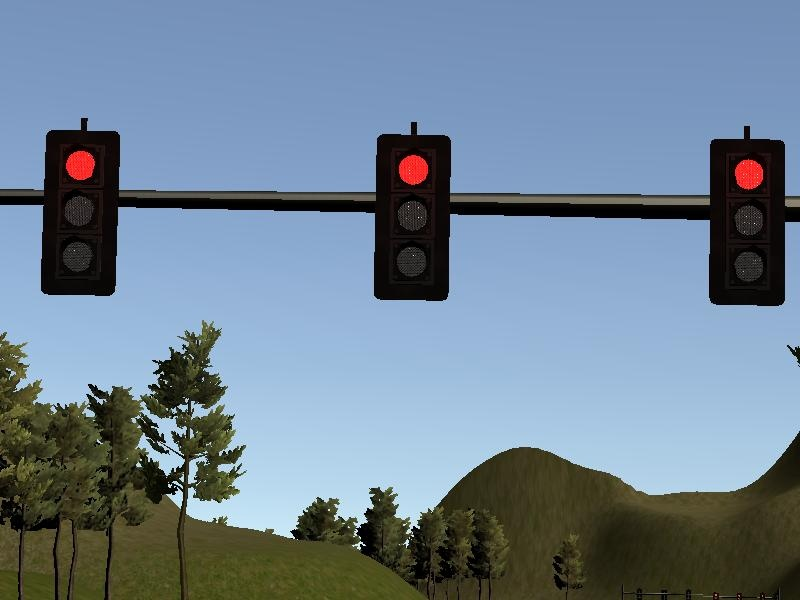RED: (40, 130, 120, 295), (371, 135, 451, 300), (706, 140, 786, 305)
